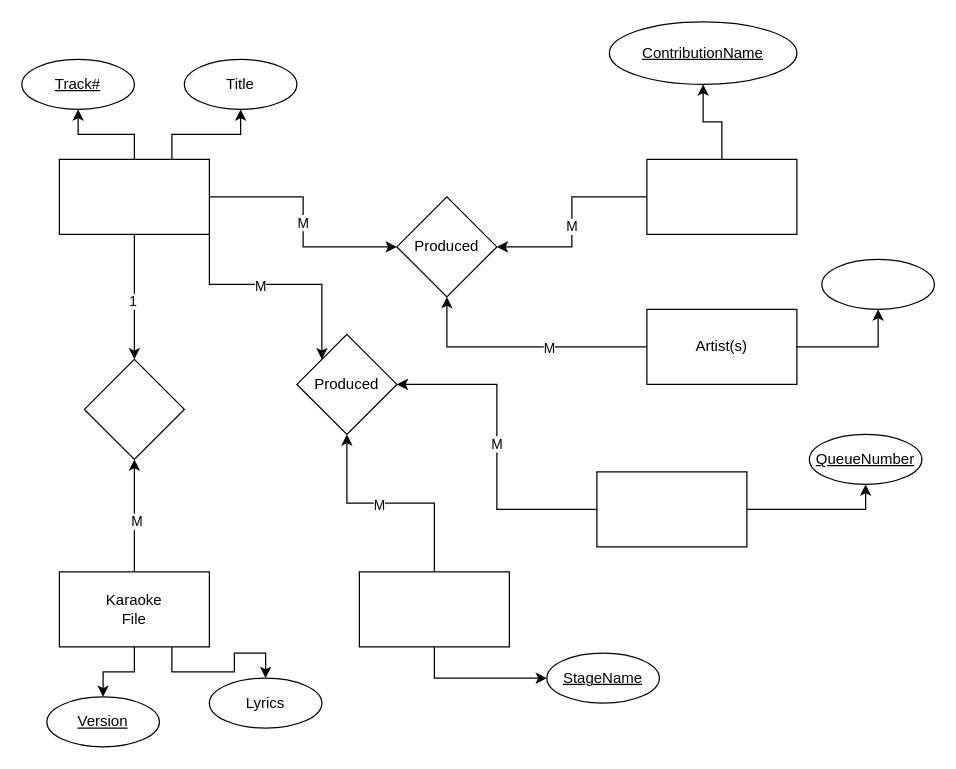
Some shapes in this 956 by 769 pixel diagram are drawn without their labels. The centre of each missing label's shape, as x and y in pixels:
"Contribution" goes at (721,196).
"Has" goes at (133,408).
"Name" goes at (877,283).
"Queue" goes at (671,509).
"Singer" goes at (433,609).
"Song" goes at (133,196).
